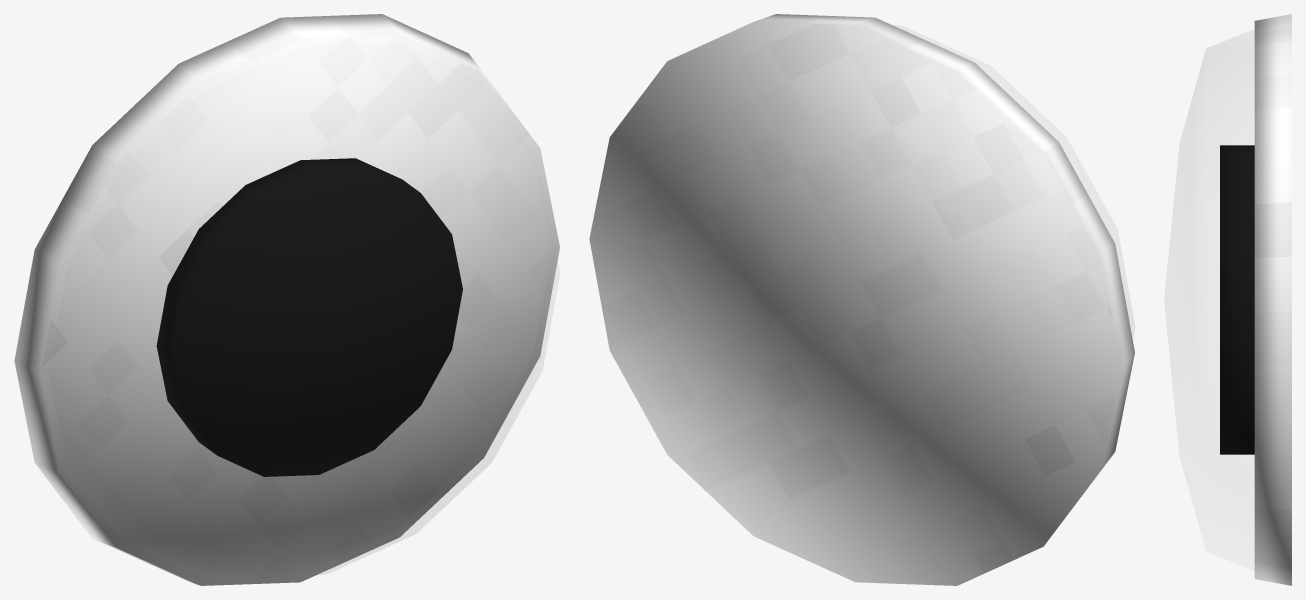
Rendered from googlyeyemesh.fbx.
The picture shows the model from 3 angles, left to right: view 1: azimuth 30°, elevation 25°; view 2: azimuth 150°, elevation 25°; view 3: azimuth 270°, elevation 25°; orthographic projection. The views are drawn at different scales.
Visible parts, largest first — view 1: Base, Eye, Dome; view 2: Base, Dome; view 3: Dome, Base, Eye.
Part boxes in pixels (x1,y1,x2,y2): Base: (14, 14, 559, 585); Eye: (156, 158, 462, 476); Dome: (229, 161, 559, 577); Base: (589, 14, 1134, 585); Dome: (894, 25, 1134, 335); Dome: (1164, 30, 1253, 569); Base: (1254, 14, 1291, 585); Eye: (1220, 145, 1254, 454).
Bounding box in the file's own units: 36.5 × 36.5 × 8.16.
